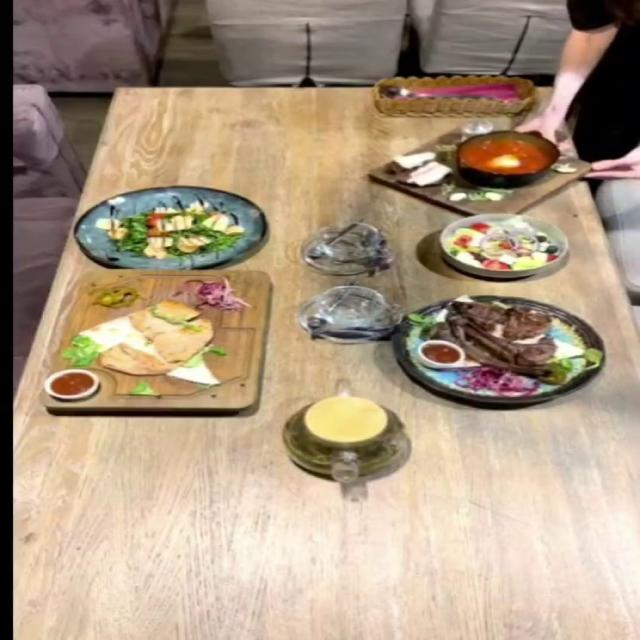meat: (390, 294, 606, 404)
salat: (72, 185, 264, 268), (438, 212, 570, 278)
soup: (368, 121, 592, 216)
tea: (280, 392, 410, 483)
